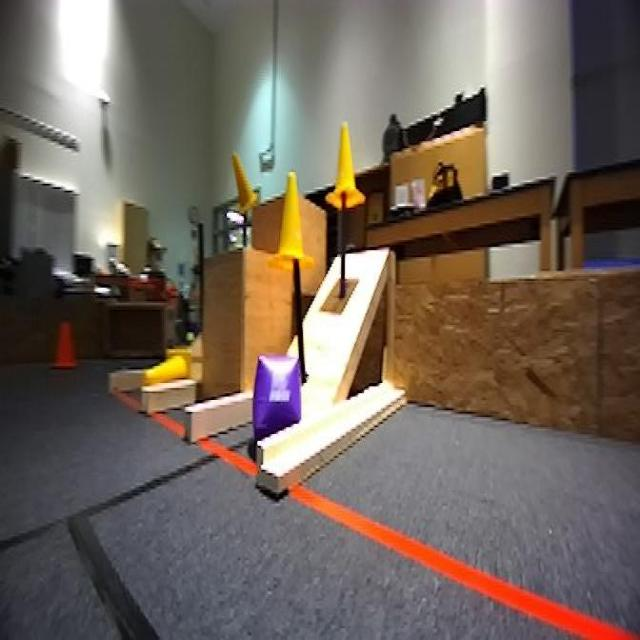frc_cone: (272, 174, 316, 272), (326, 121, 364, 211), (143, 345, 192, 390), (229, 148, 260, 215)
frc_cube: (253, 350, 302, 438)
